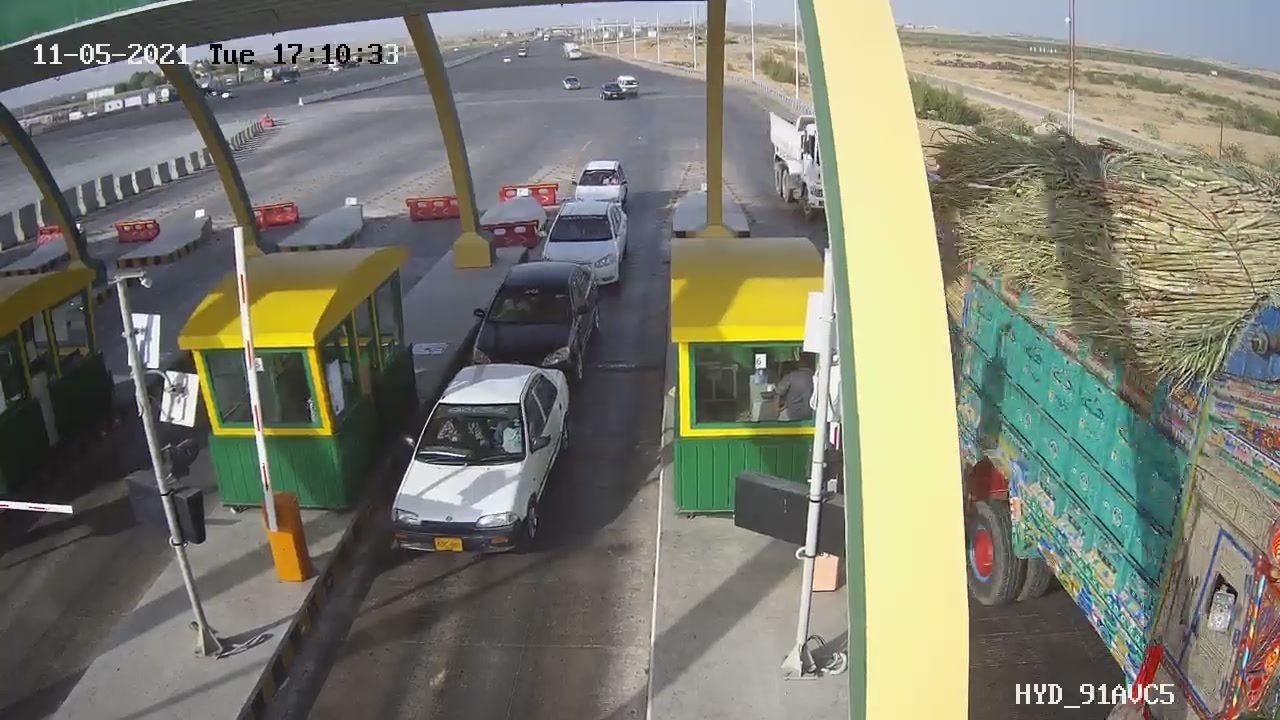F1: (361, 348, 601, 565), (439, 248, 626, 399)
